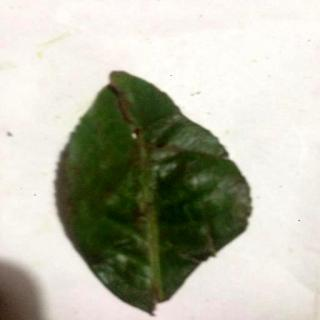Red Leaf Spot: (55, 69, 251, 313)
